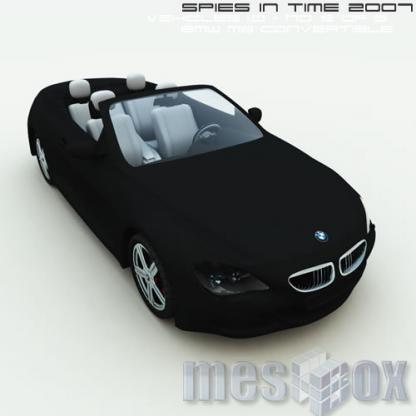Vehicle: (26, 72, 379, 341)
